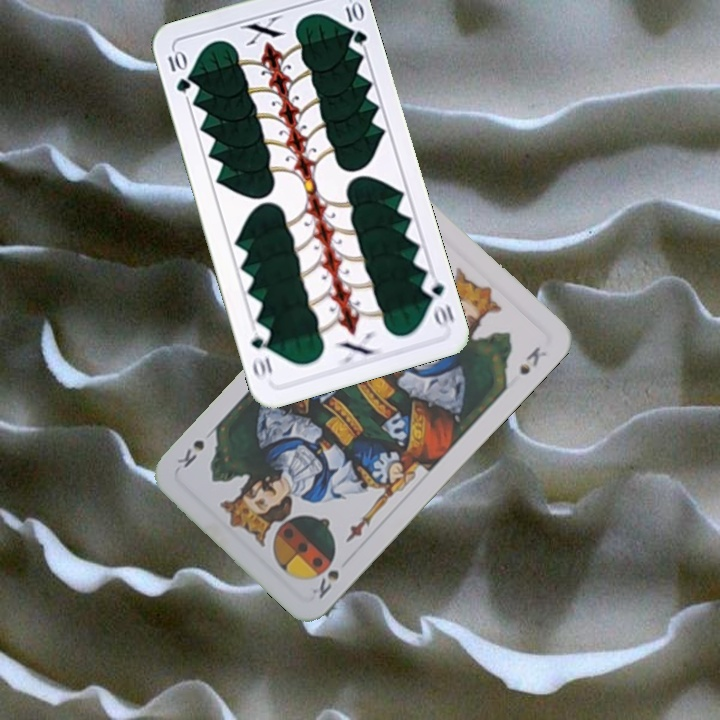G10: (418, 271, 457, 330), (163, 46, 193, 96)
SK: (307, 566, 342, 602)
